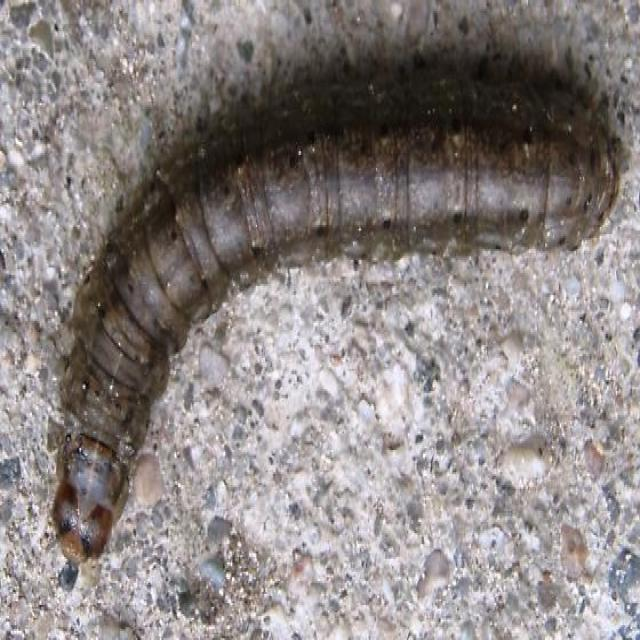black cutworm: (43, 64, 622, 565)
